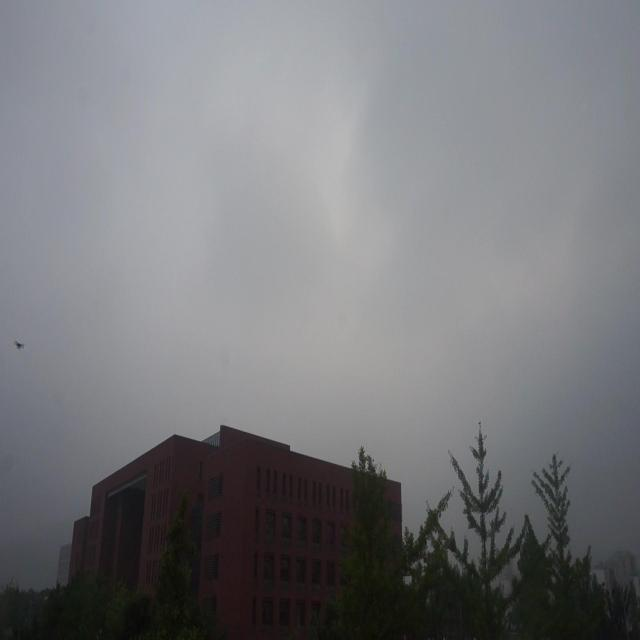drone: (12, 336, 28, 354)
